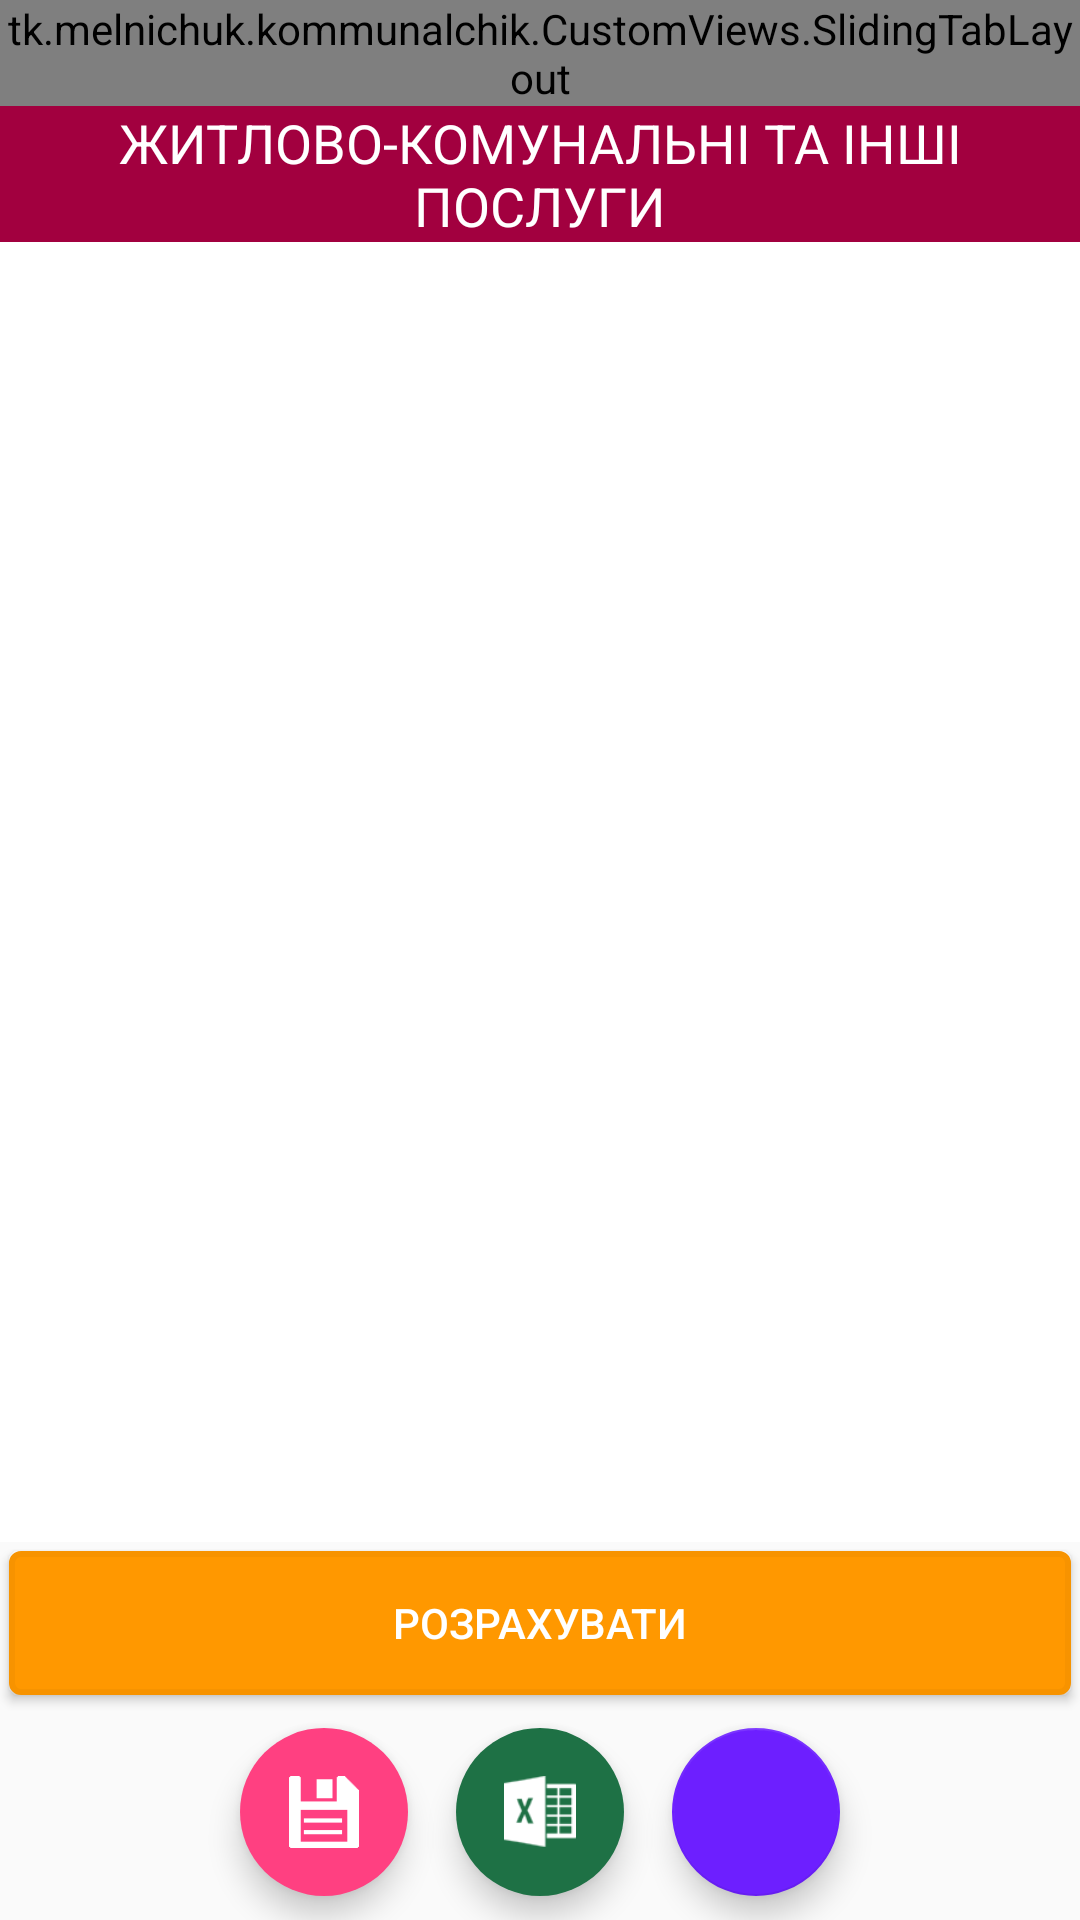

Named icons in this screenshot (1080×1920) and their centers, [x,y]:
save: [324,1812]
